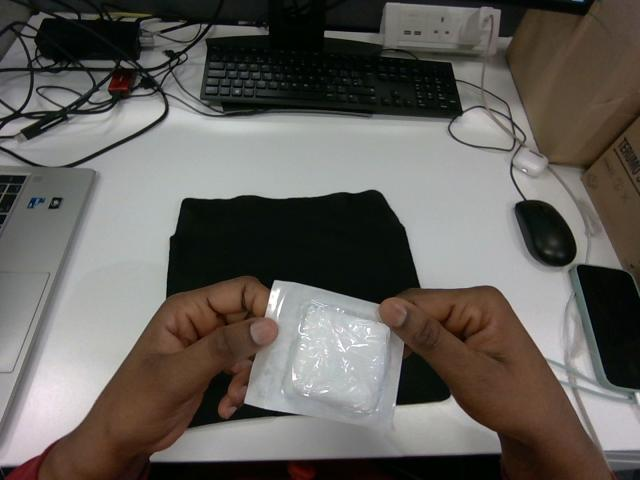gauze: (245, 281, 402, 426)
